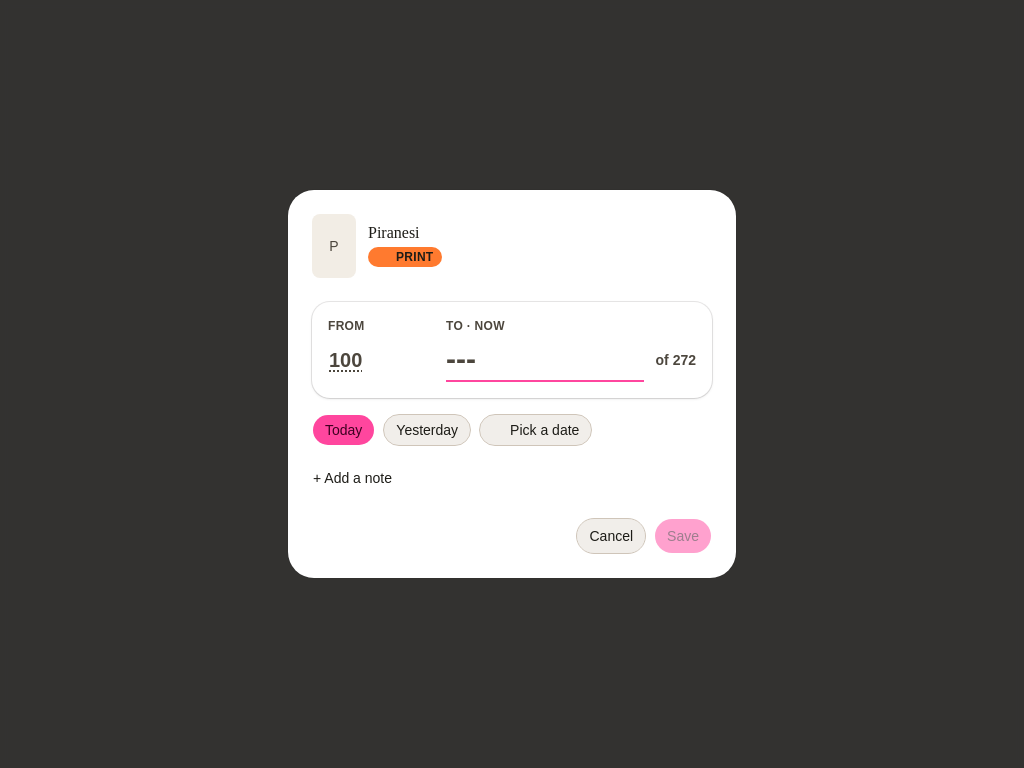
Test: ProgressLogSheet › collapses the start position back to a value once it is a valid one
The width and height of the screenshot is (1024, 768).
Click the button named "Edit start position" at {"x": 346, "y": 360}, box x1=328 y1=344 x2=363 y2=376
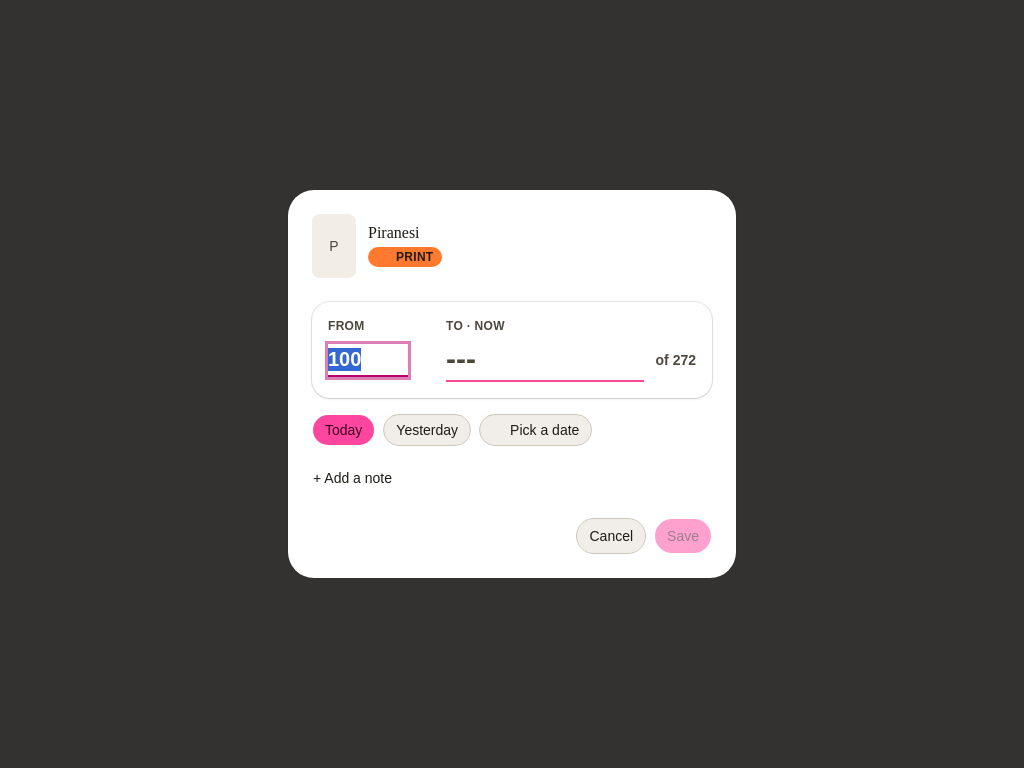
Replace the text in the field named "start position" with "50" at {"x": 368, "y": 360}, box x1=328 y1=344 x2=408 y2=376
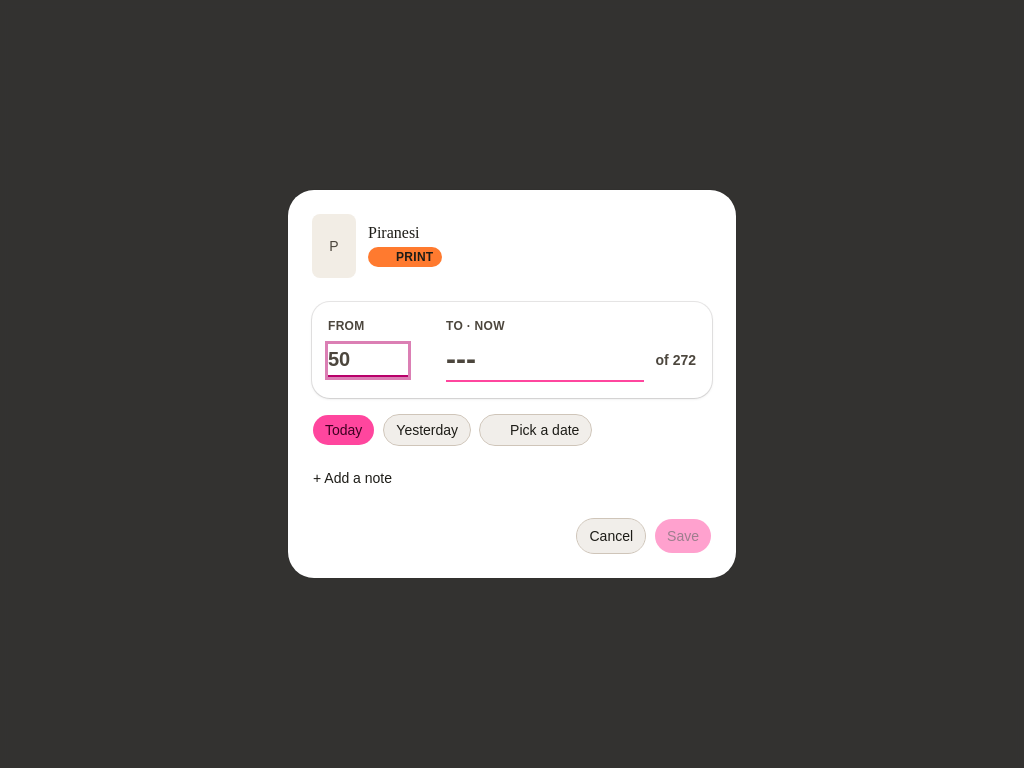
Press Tab
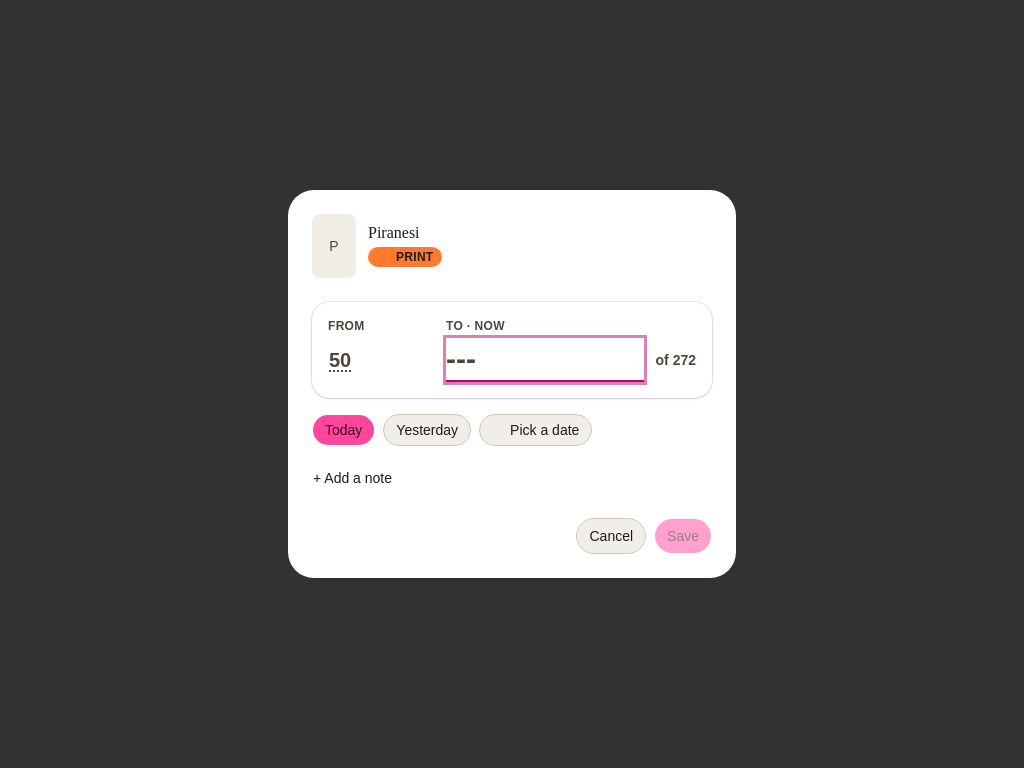
expect the button named "Edit start position" reads "50": met, box x1=328 y1=344 x2=352 y2=376
